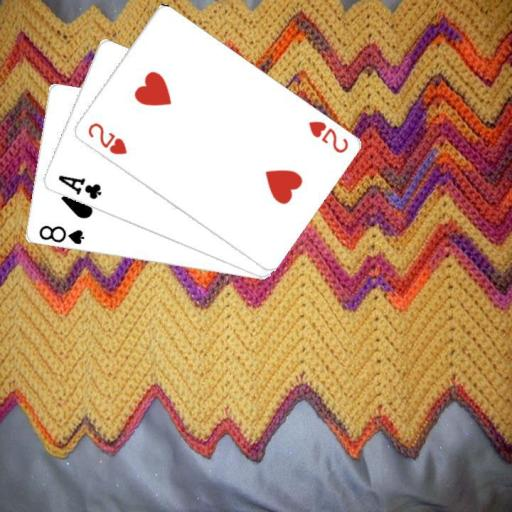2H: (304, 117, 350, 155), (84, 119, 128, 156)
8S: (36, 222, 86, 247)
AC: (55, 172, 102, 202)
